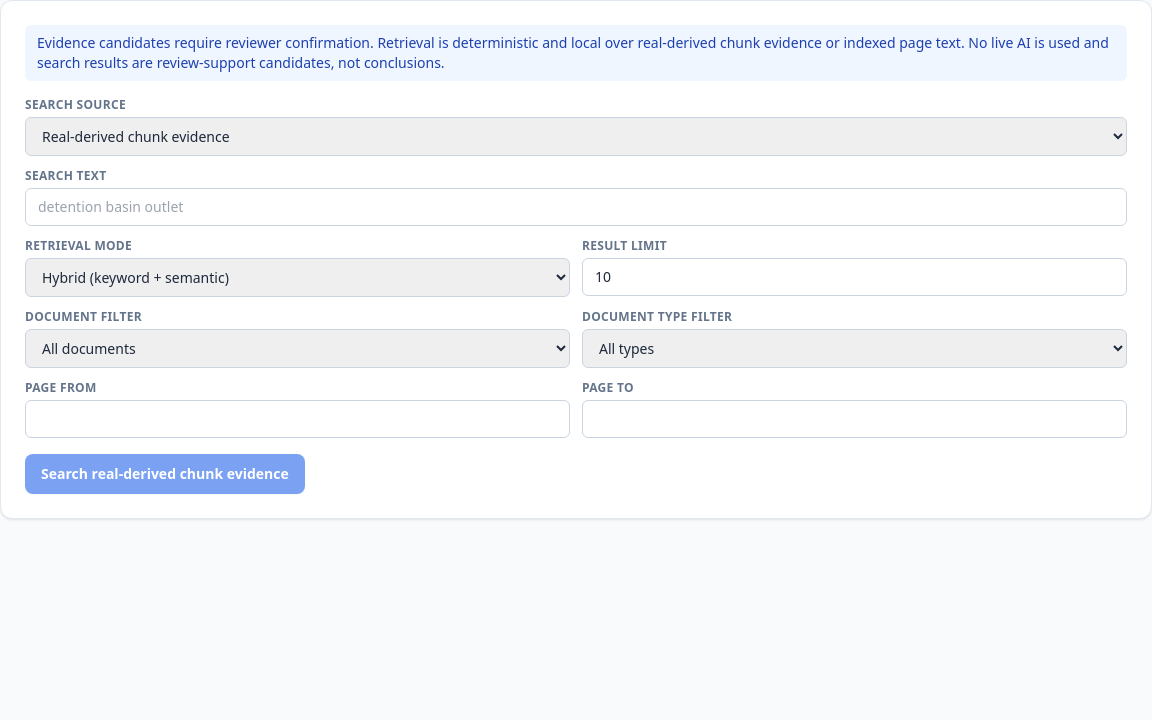
Test: Evidence search client › saves a candidate with citation fields and candidate origin
The width and height of the screenshot is (1152, 720).
Step 1. Type "detention basin" into the field with placeholder "detention basin outlet" → [576, 207], box 25,188 -> 1127,226
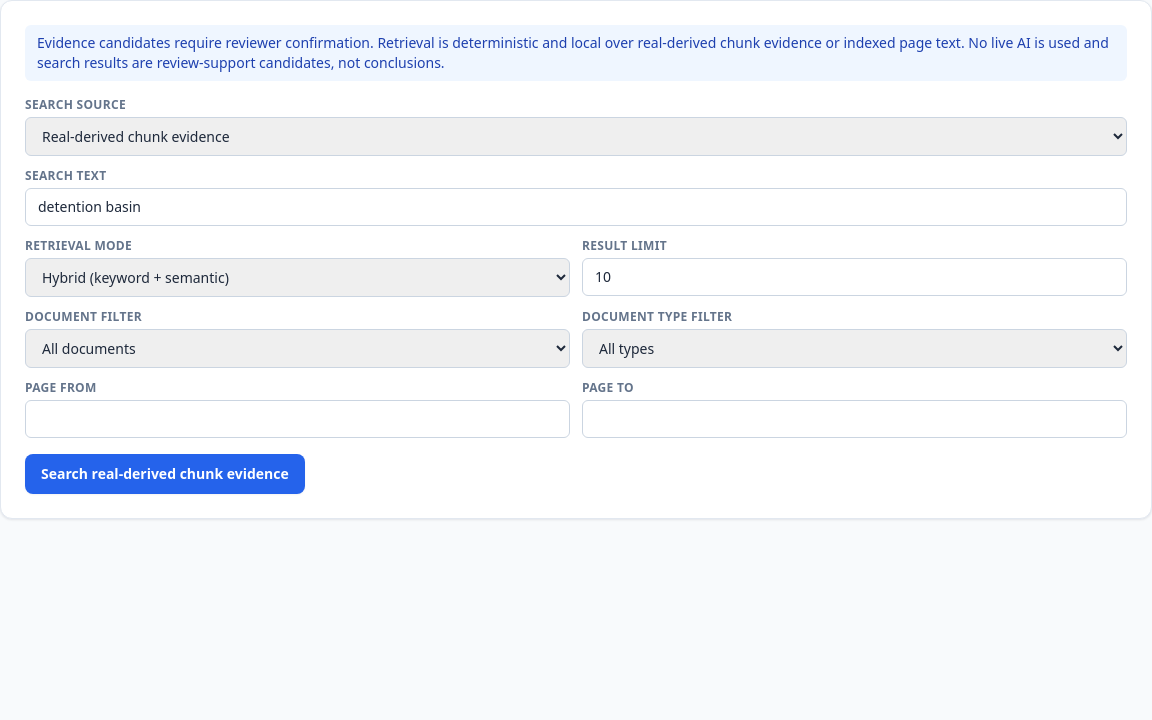
Step 2. Click the button "Search real-derived chunk evidence" → [165, 474], box 25,454 -> 305,494
(page scrolled)
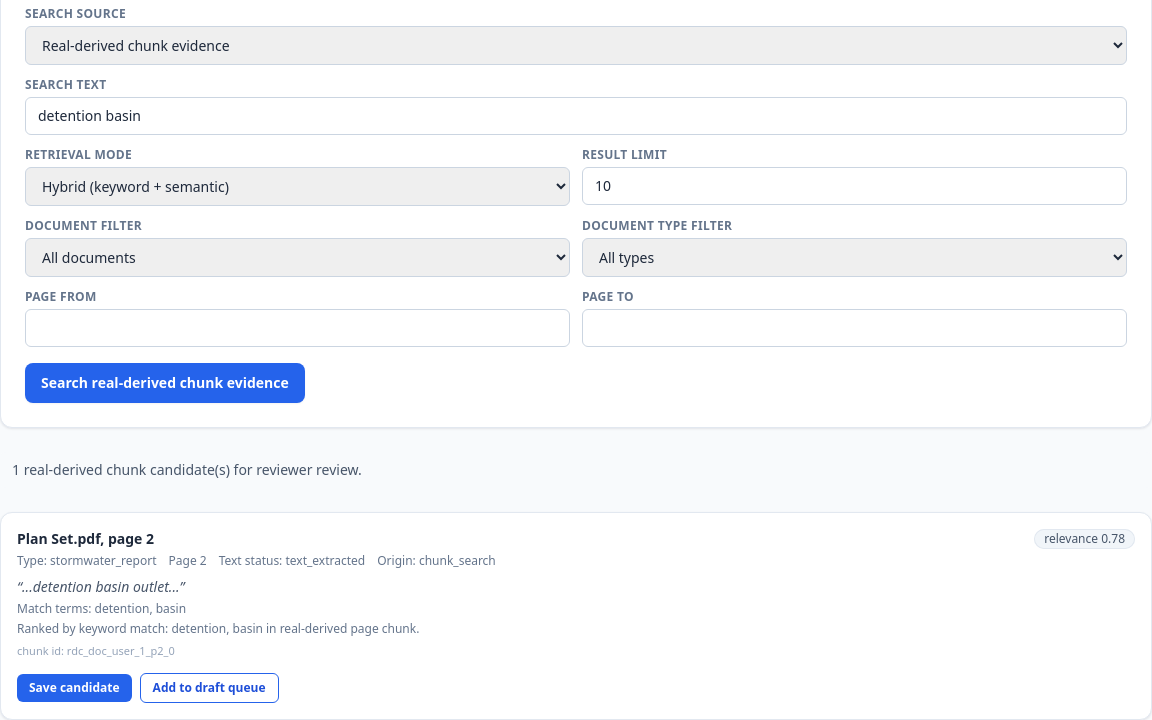
Now the button "Save candidate" is shown
Step 3. Click the button "Save candidate" → [74, 688], box 17,674 -> 132,702
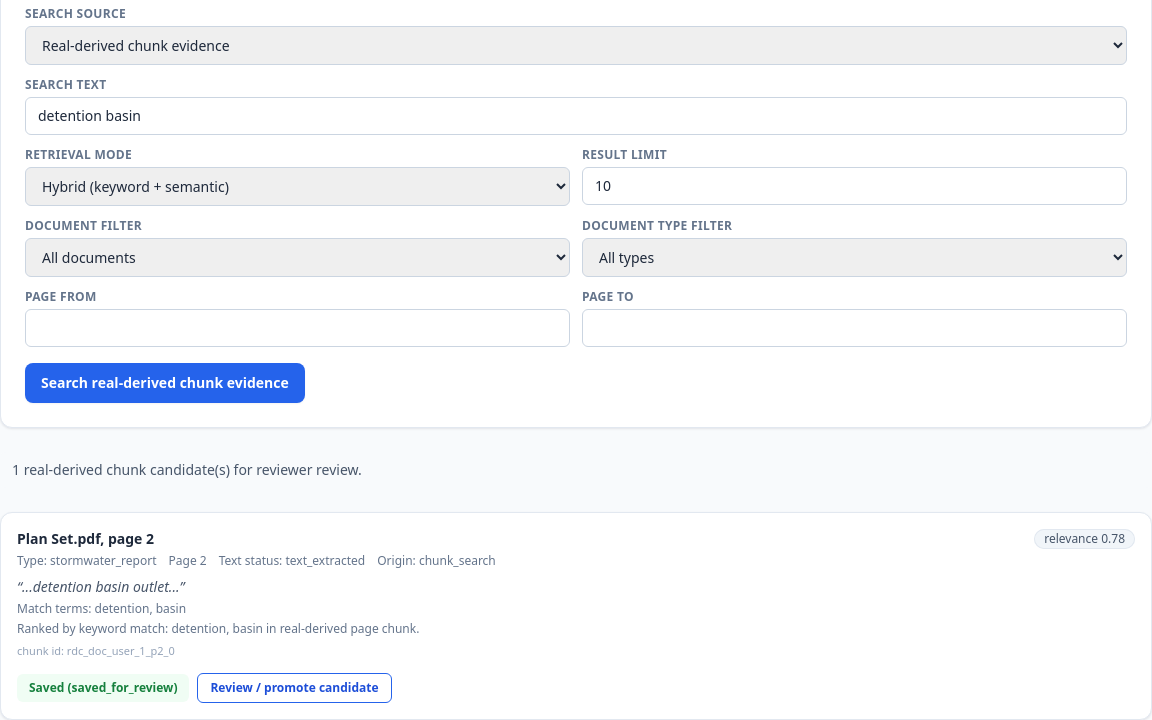
Now the link "Review / promote candidate" is shown, box 198,673 -> 392,703
Now the text "Saved (saved_for_review)" is shown, box 17,674 -> 190,702
